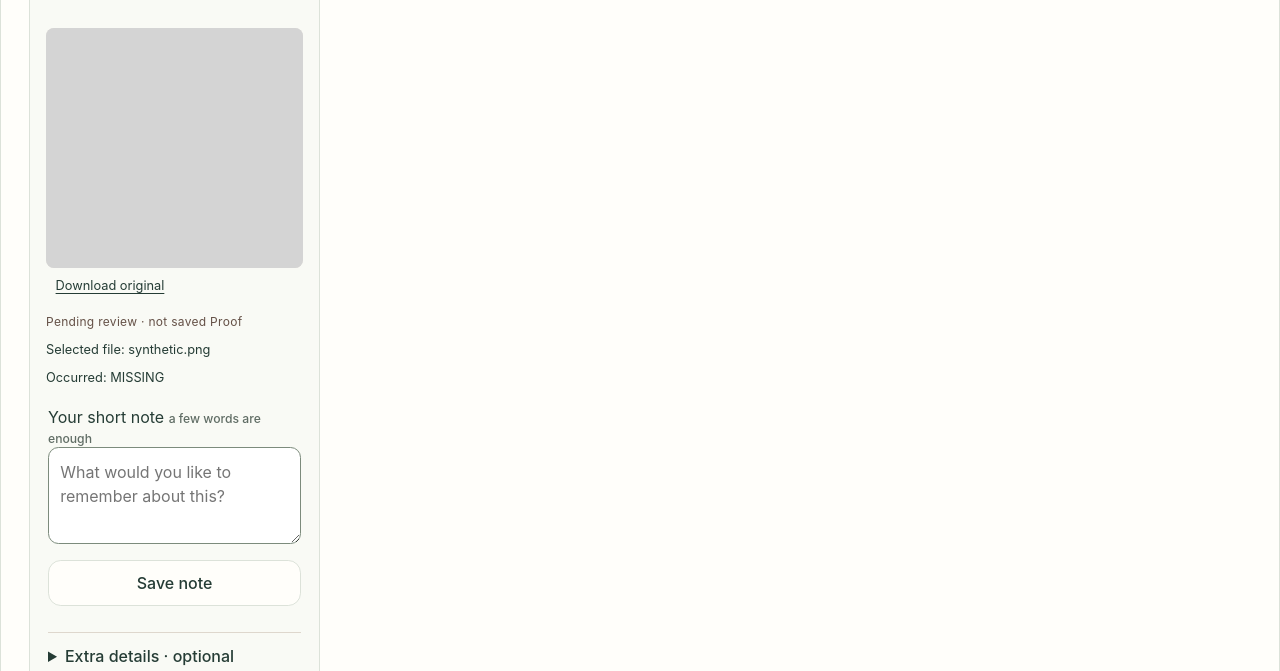
Test: preserves a draft started while a refresh read is in flight
(page scrolled)
Expected: the text "Pending review · not saved Proof" is shown, left=46, top=314, right=242, bottom=329
Replace the text in the field named "Title" with "Synthetic new draft" at (175, 649), box left=48, top=632, right=301, bottom=666
(page scrolled)
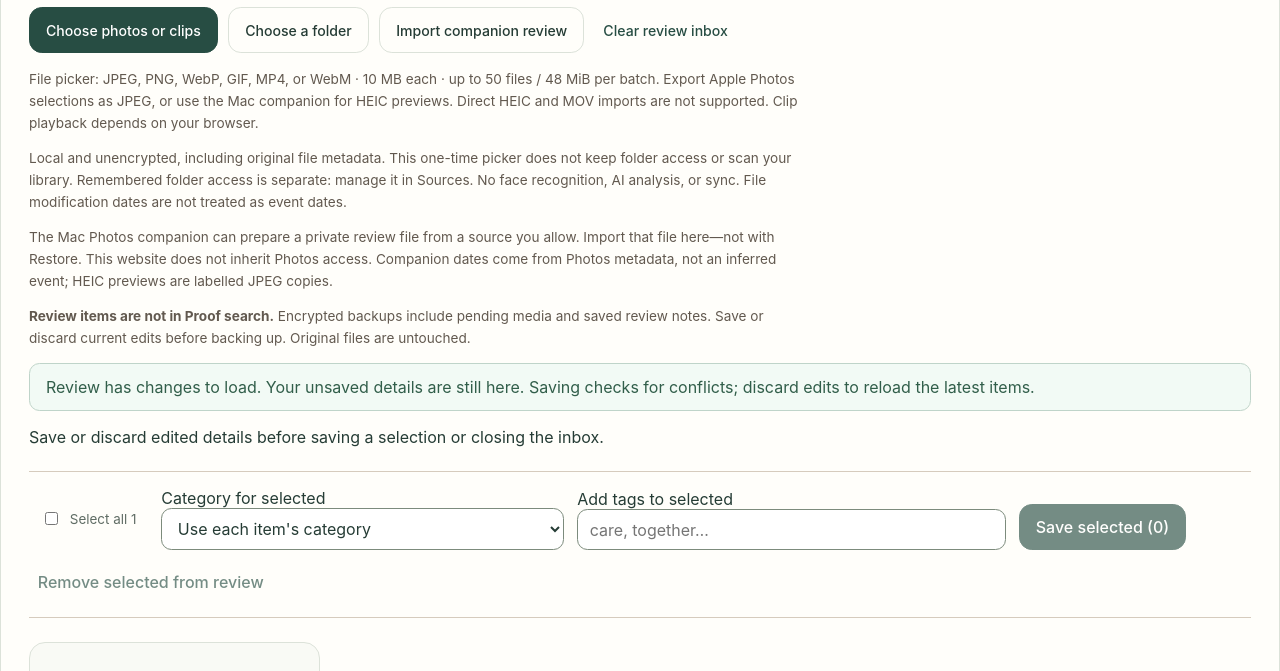
Result: the text "Review has changes to load" is shown at left=46, top=377, right=1035, bottom=397
